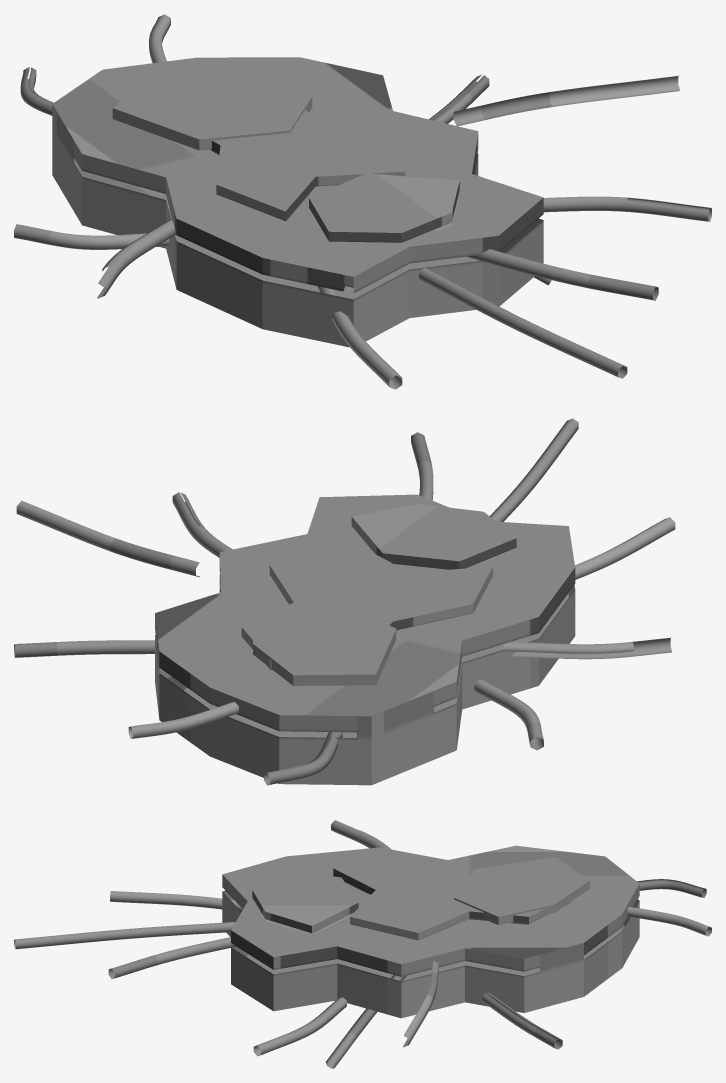
3 renders of one model, top to bottom at view 1: azimuth 30°, elevation 25°; view 2: azimuth 150°, elevation 25°; view 3: azimuth 270°, elevation 25°, orthographic. The views are drawn at different scales.
Size of the model in its own units: 1.2 by 0.2515 by 1.51.
